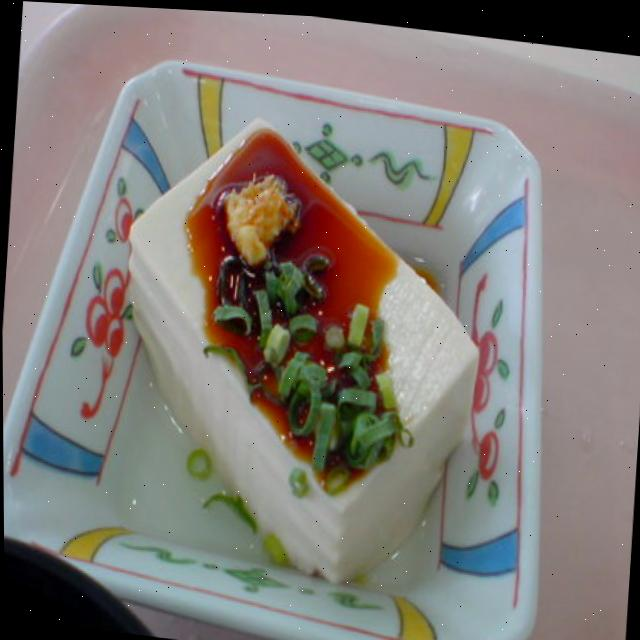豆腐料理: (67, 77, 517, 611)
